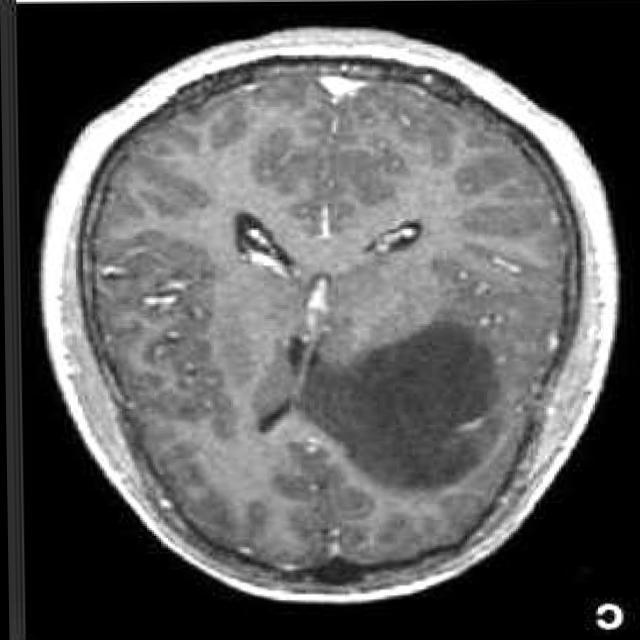Tumor: (292, 322, 496, 491)
